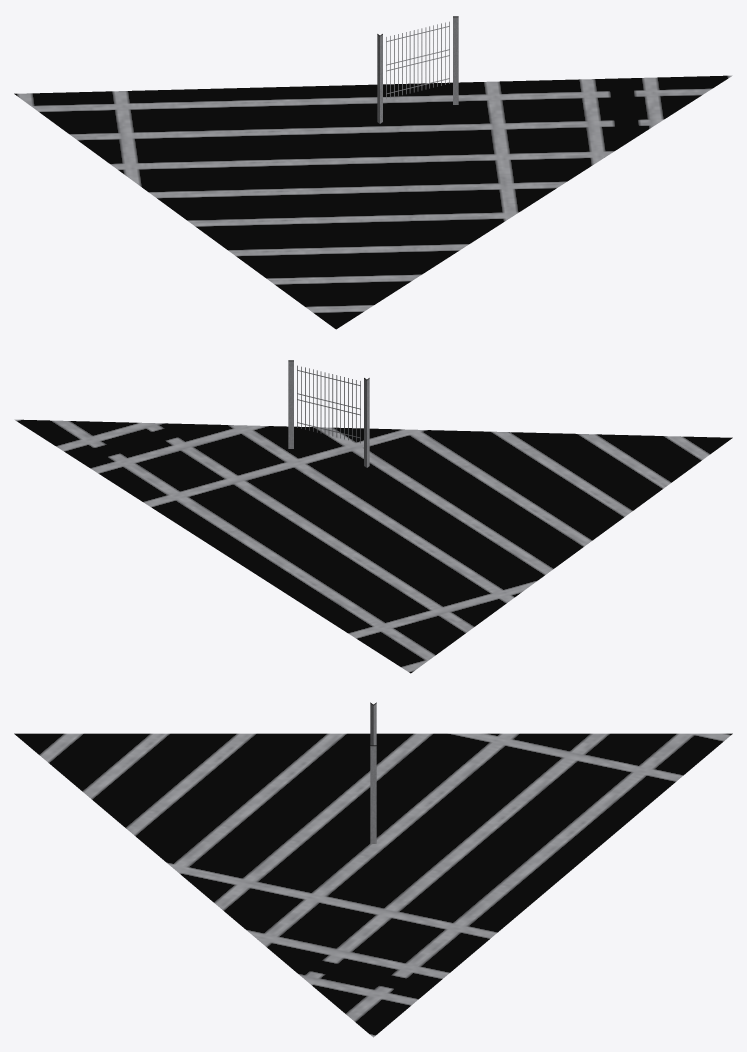
File: fence-mesh-grey-gate-1p2m-cbj_LOD03.gltf
3 views of the same model, one above another, from view 1: azimuth 30°, elevation 25°; view 2: azimuth 150°, elevation 25°; view 3: azimuth 270°, elevation 25° (orthographic). The views are drawn at different scales.
Parts seen in each view (by area): view 1: post.001; view 2: post.001; view 3: post.001.
Part boxes in pixels (x1,y1,x2,y2): post.001: [14, 16, 732, 329]; post.001: [14, 360, 732, 673]; post.001: [14, 702, 732, 1037].
Bounding box in the file's own units: 10.56 × 2.31 × 10.56.
